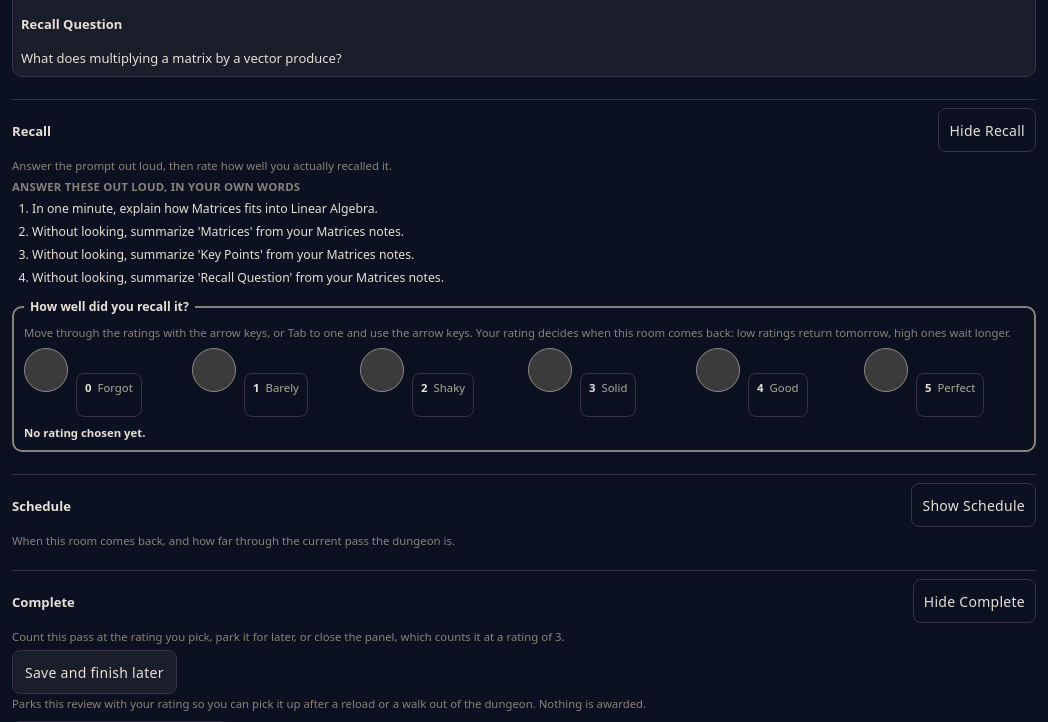
the interrupted-session routes are two distinct decisions › saves without awarding and without writing SM-2 state
This screenshot has width=1048, height=722.
(page scrolled)
Click the radio button labelled "3 Solid": click(550, 370) x1=528 y1=348 x2=572 y2=392
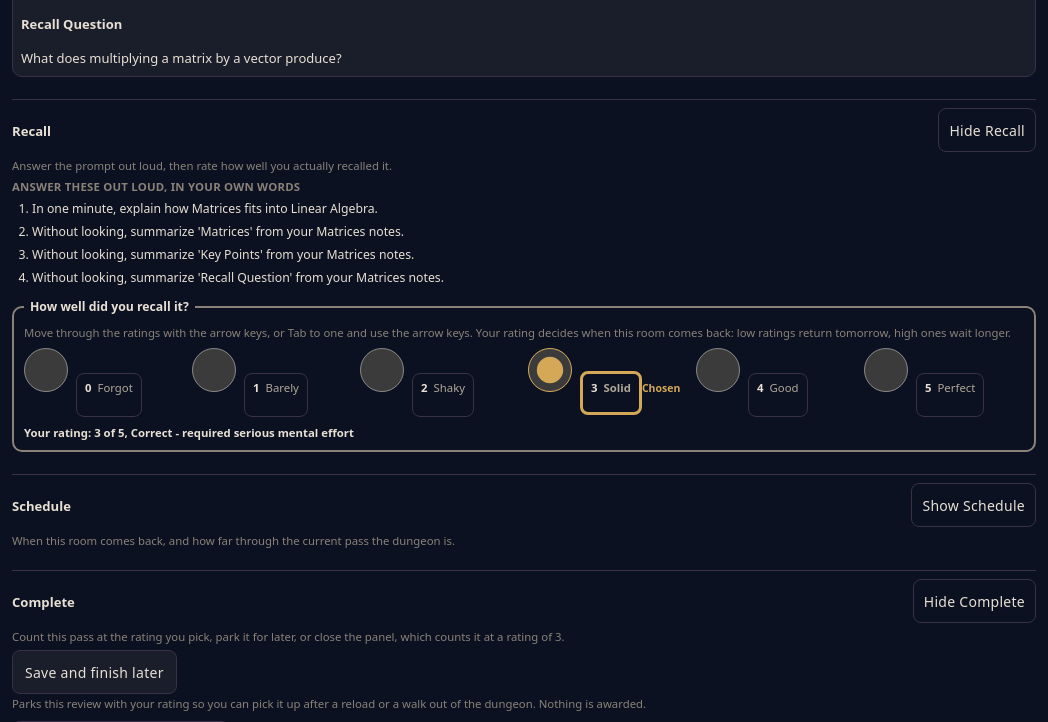
Click the button "Save and finish later": click(94, 672) x1=12 y1=650 x2=177 y2=694
(page scrolled)
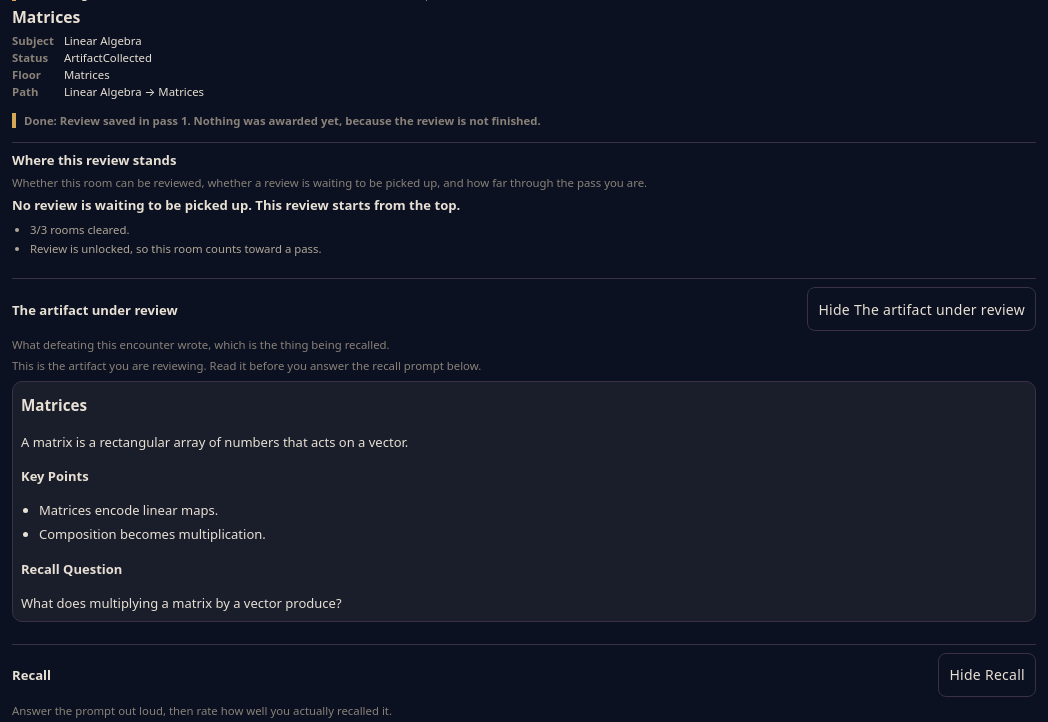
Now the message shows "Nothing was awarded yet", box x1=24 y1=114 x2=541 y2=128
